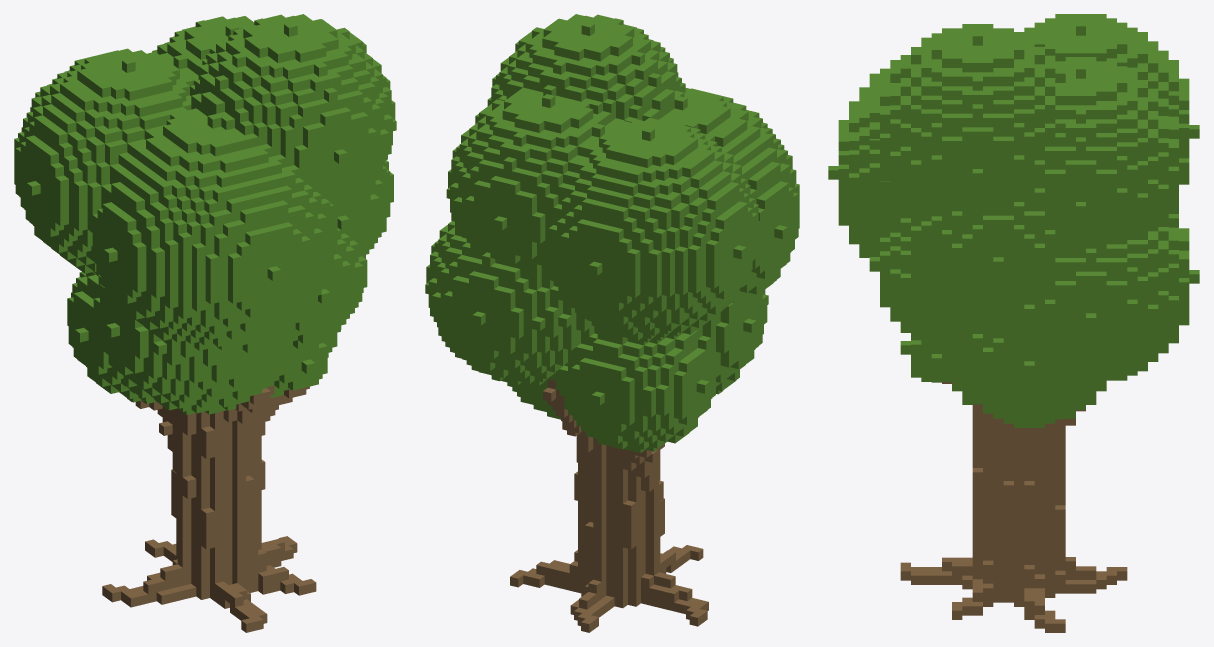
File: tree.glb
The picture shows the model from 3 angles, left to right: view 1: azimuth 30°, elevation 25°; view 2: azimuth 150°, elevation 25°; view 3: azimuth 270°, elevation 25°; orthographic projection. The views are drawn at different scales.
Parts seen in each view (by area): view 1: Layer.1; view 2: Layer.1; view 3: Layer.1.
Part boxes in pixels (<box>): Layer.1: <box>14,14,396,632</box>; Layer.1: <box>425,14,799,632</box>; Layer.1: <box>828,14,1199,632</box>.
Bounding box in the file's own units: 36 × 62 × 36.
